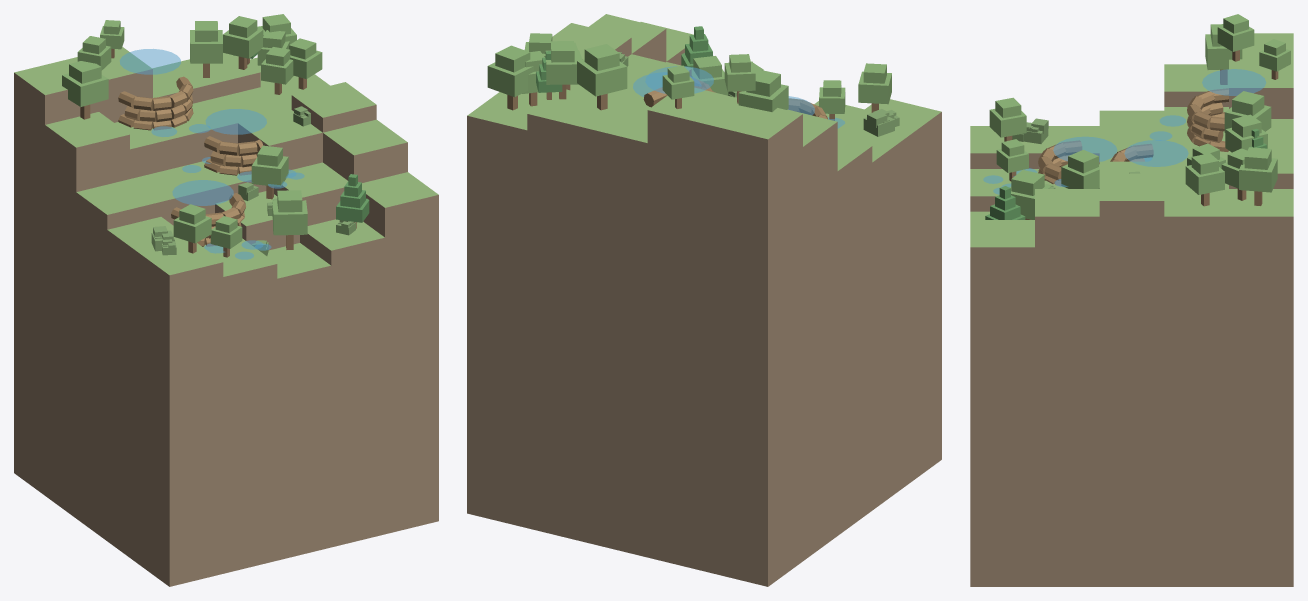
File: block_21_leakingdam_100.glb
3 renders of one model, left to right at view 1: azimuth 30°, elevation 25°; view 2: azimuth 150°, elevation 25°; view 3: azimuth 270°, elevation 25°, orthographic. The views are drawn at different scales.
Visible parts, largest first — view 1: Patch_UpperRight_b22_LD, LD_Water_21, LD_Dam_21, LD_Veg_21_010, LD_Veg_21_013, LD_Veg_21_008, LD_Veg_21_012, LD_Veg_21_003, LD_Veg_21_019, LD_Veg_21_017, LD_Veg_21_004, LD_Veg_21_002 (+5 smaller); view 2: Patch_UpperRight_b22_LD, LD_Veg_21_012, LD_Veg_21_018, LD_Water_21, LD_Veg_21_010, LD_Veg_21_008, LD_Veg_21_019, LD_Veg_21_011, LD_Veg_21_016, LD_Veg_21_003, LD_Dam_21, LD_Veg_21_021 (+2 smaller); view 3: Patch_UpperRight_b22_LD, LD_Water_21, LD_Dam_21, LD_Veg_21_018, LD_Veg_21_004, LD_Veg_21_003, LD_Veg_21_019, LD_Veg_21_011, LD_Veg_21_012, LD_Veg_21_013, LD_Veg_21_008, LD_Veg_21_010 (+5 smaller).
Boxes of the visible parts, x1=… form: Patch_UpperRight_b22_LD: x1=14, y1=47, x2=438, y2=586; LD_Water_21: x1=120, y1=49, x2=304, y2=259; LD_Dam_21: x1=118, y1=76, x2=263, y2=246; LD_Veg_21_010: x1=62, y1=61, x2=108, y2=119; LD_Veg_21_013: x1=272, y1=190, x2=307, y2=249; LD_Veg_21_008: x1=223, y1=16, x2=263, y2=69; LD_Veg_21_012: x1=190, y1=21, x2=222, y2=77; LD_Veg_21_003: x1=251, y1=145, x2=288, y2=199; LD_Veg_21_019: x1=173, y1=204, x2=211, y2=253; LD_Veg_21_017: x1=336, y1=174, x2=369, y2=228; LD_Veg_21_004: x1=289, y1=38, x2=322, y2=89; LD_Veg_21_002: x1=261, y1=47, x2=293, y2=94; Patch_UpperRight_b22_LD: x1=467, y1=14, x2=941, y2=586; LD_Veg_21_012: x1=577, y1=44, x2=627, y2=110; LD_Veg_21_018: x1=487, y1=45, x2=533, y2=110; LD_Water_21: x1=633, y1=66, x2=844, y2=128; LD_Veg_21_010: x1=738, y1=69, x2=788, y2=111; LD_Veg_21_008: x1=546, y1=41, x2=579, y2=99; LD_Veg_21_019: x1=858, y1=63, x2=891, y2=112; LD_Veg_21_011: x1=724, y1=54, x2=755, y2=103; LD_Veg_21_016: x1=662, y1=65, x2=694, y2=108; LD_Veg_21_003: x1=690, y1=56, x2=728, y2=95; LD_Dam_21: x1=643, y1=77, x2=827, y2=119; LD_Veg_21_021: x1=819, y1=80, x2=845, y2=120; Patch_UpperRight_b22_LD: x1=970, y1=33, x2=1293, y2=586; LD_Water_21: x1=983, y1=69, x2=1266, y2=194; LD_Dam_21: x1=1038, y1=88, x2=1228, y2=186; LD_Veg_21_018: x1=1239, y1=147, x2=1277, y2=205; LD_Veg_21_004: x1=1185, y1=153, x2=1224, y2=206; LD_Veg_21_003: x1=1061, y1=150, x2=1099, y2=188; LD_Veg_21_019: x1=989, y1=97, x2=1026, y2=141; LD_Veg_21_011: x1=1217, y1=14, x2=1254, y2=61; LD_Veg_21_012: x1=1224, y1=91, x2=1271, y2=132; LD_Veg_21_013: x1=1010, y1=170, x2=1051, y2=219; LD_Veg_21_008: x1=1225, y1=114, x2=1267, y2=152; LD_Veg_21_010: x1=1205, y1=24, x2=1242, y2=84.
Bounding box in the file's own units: 9.5 × 14.82 × 9.5.
